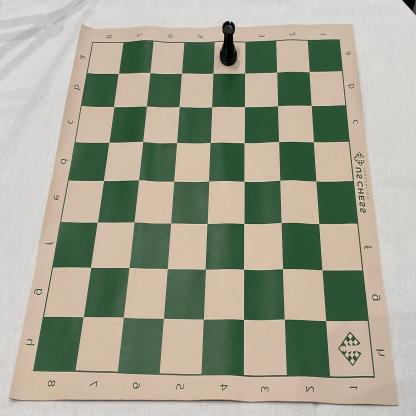black-rook: (219, 21, 238, 66)
